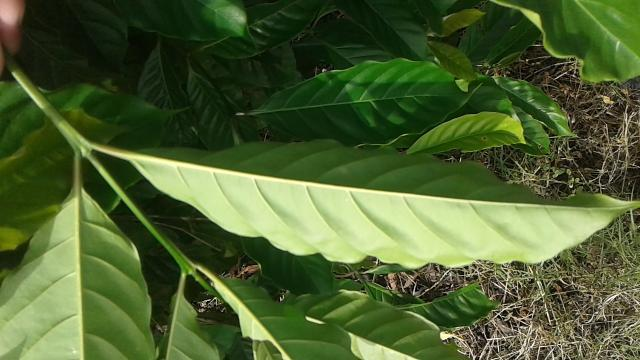healthy: (124, 134, 640, 271)
